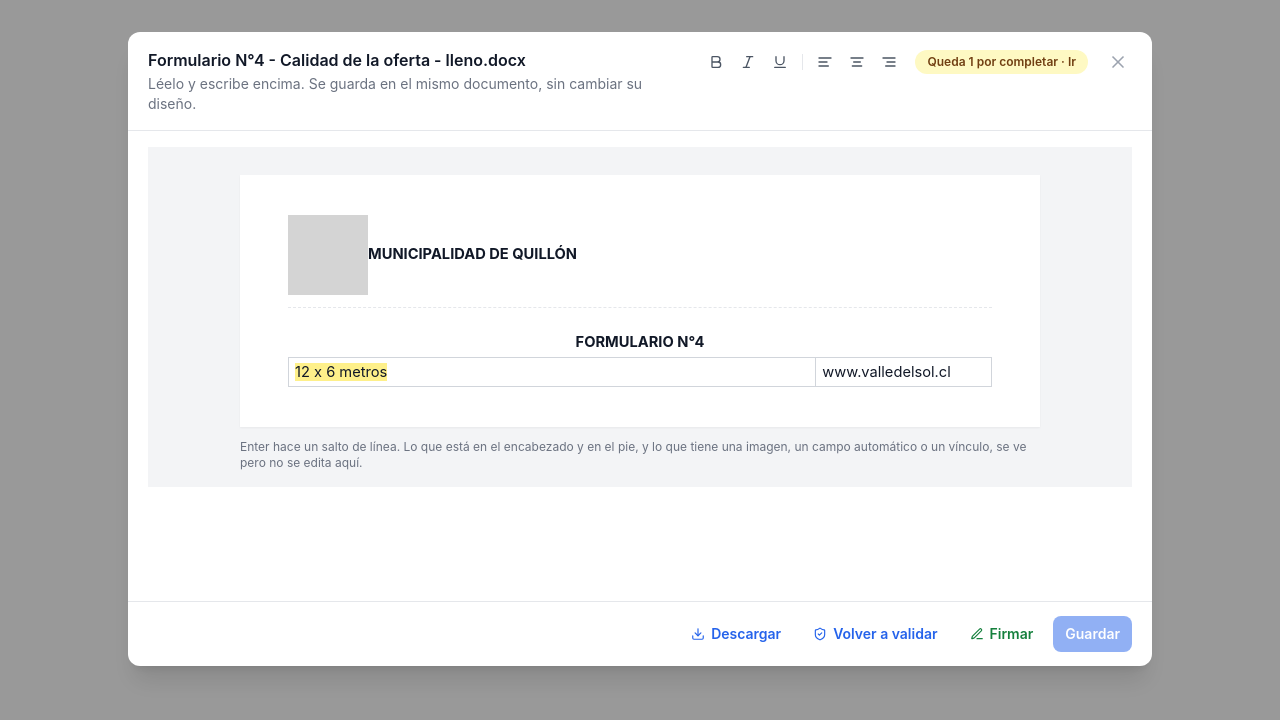
Test: El documento, para verlo y editarlo › al escribir encima del [COMPLETAR], el amarillo que copia el navegador se apaga
This screenshot has width=1280, height=720.
Expected: the text box "FORMULARIO N°4" is shown, x1=576 y1=333 x2=704 y2=351
Step 1. Clear the text box labelled "12 x 6 metros" → [341, 372], box x1=295 y1=362 x2=387 y2=380
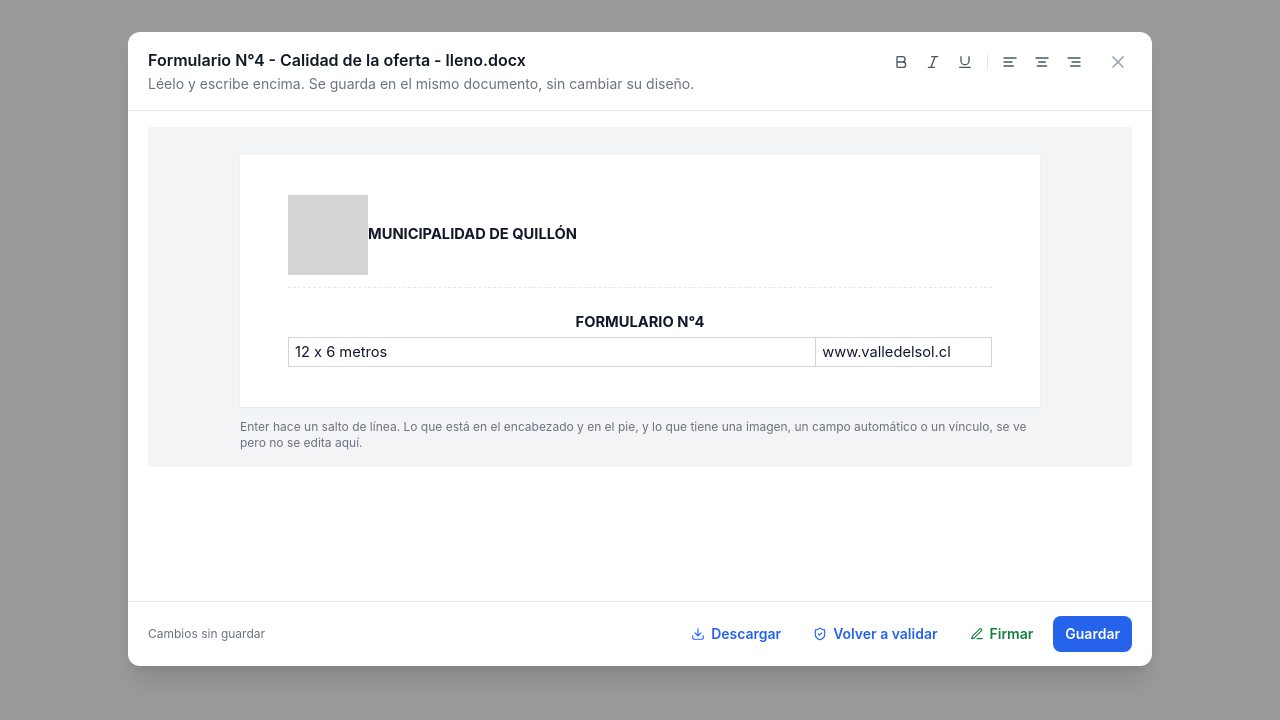
Expected: the button "por completar" is gone
